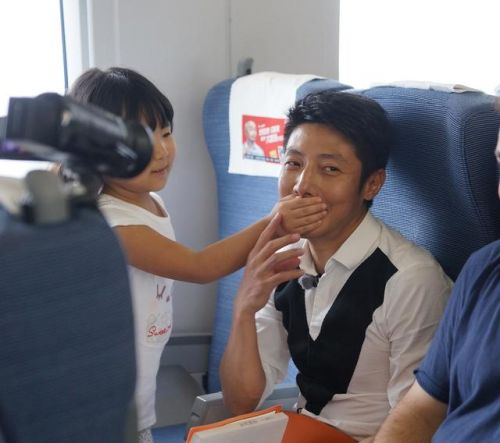face: (279, 123, 353, 236), (109, 106, 174, 190)
